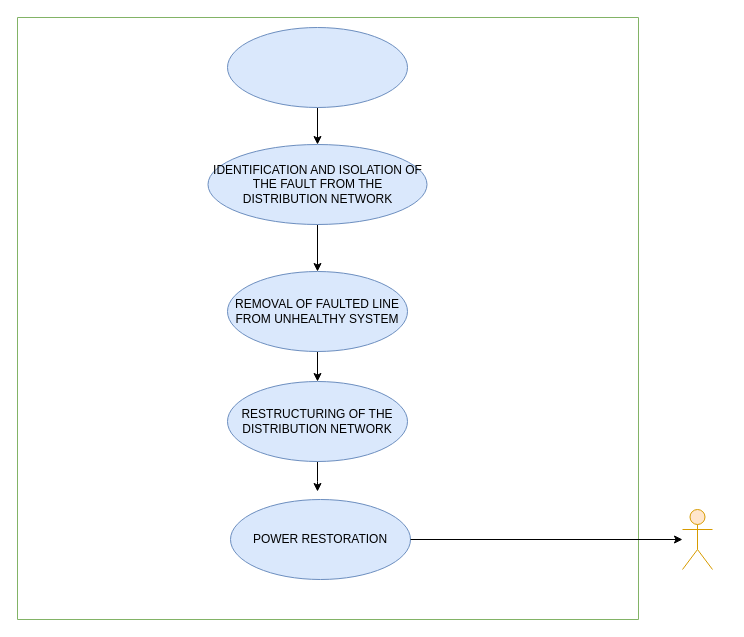
This 744x637 diagram has some shape labels left out. The shapes that lost their labels are listed below. From the top down, each one's box as (x1, y1, x2, y2) in pixels, then its label:
(226, 26, 408, 108): FAULT IN THE DISTRIBUTION SYSTEM
(682, 508, 712, 570): Customers
